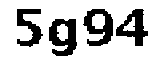4: (115, 4, 152, 49)
5: (11, 5, 45, 53)
9: (82, 5, 116, 52)
g: (43, 16, 79, 60)
